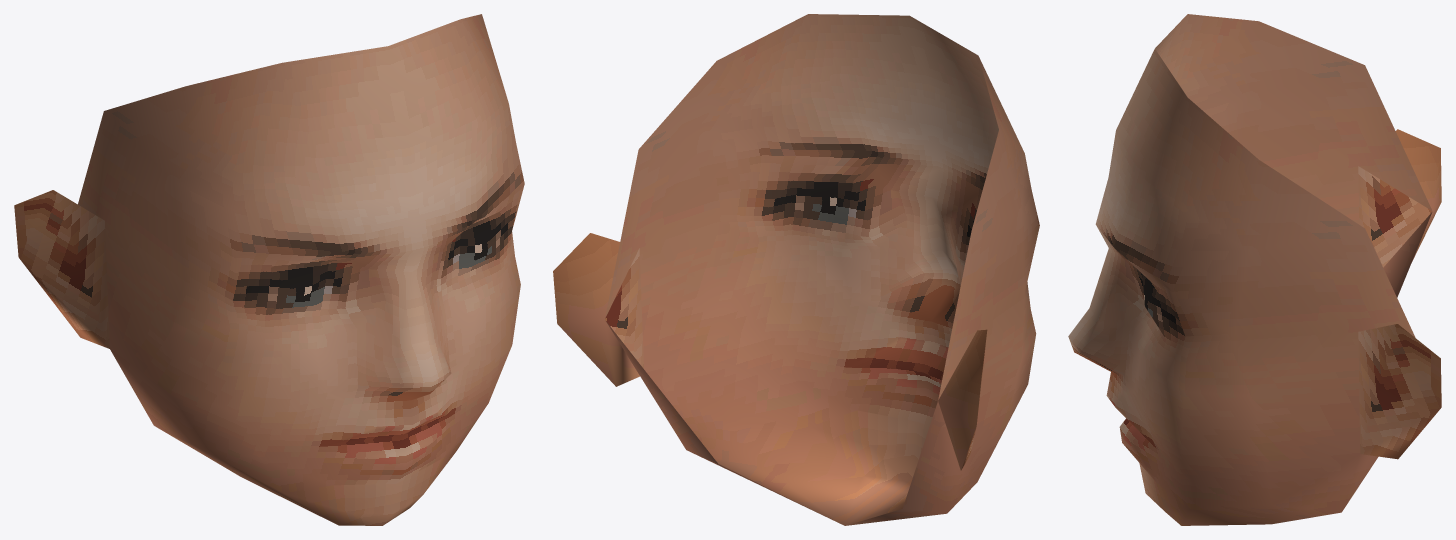
3 views of the same model, side by side, from view 1: azimuth 30°, elevation 25°; view 2: azimuth 150°, elevation 25°; view 3: azimuth 270°, elevation 25° (orthographic). The views are drawn at different scales.
Bounding box in the file's own units: 19.4 × 20.02 × 14.57.
1 material, 1 textured.
